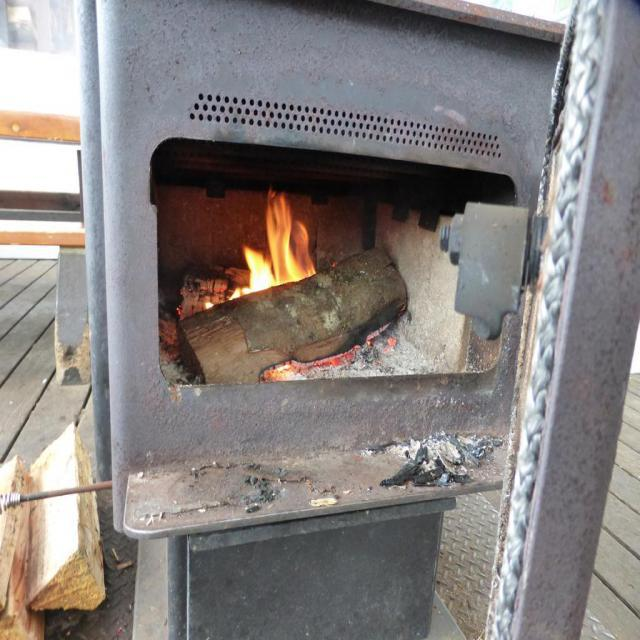Fire: (232, 195, 316, 298)
